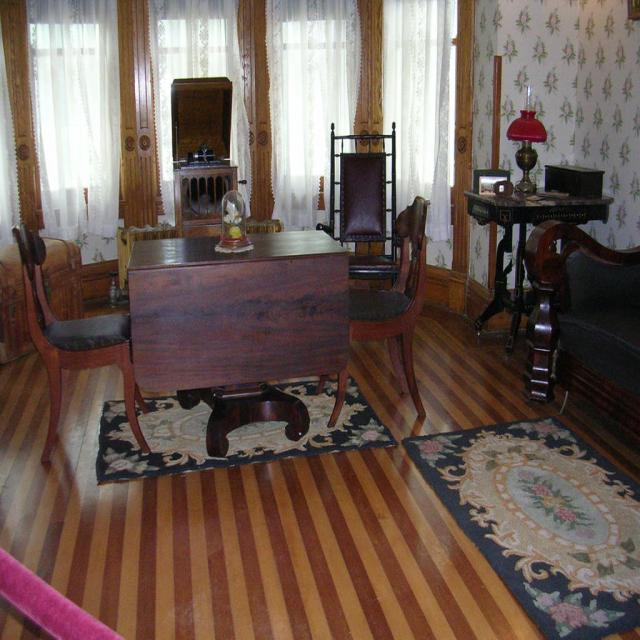chair: (15, 227, 156, 469), (344, 196, 430, 437)
desk: (125, 229, 345, 457)
tv: (171, 77, 233, 166)
